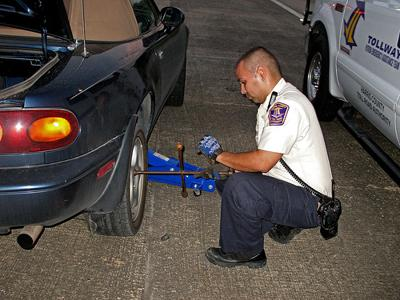person: (194, 44, 346, 272)
